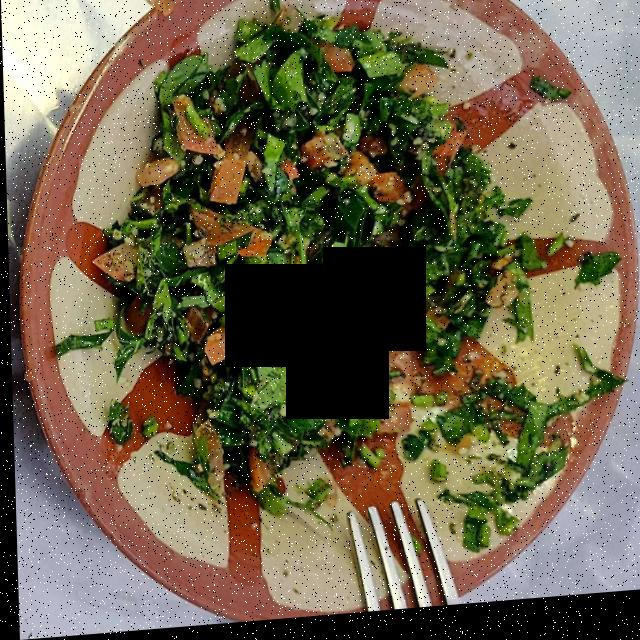parsley: (113, 38, 523, 450)
